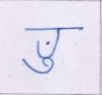u_matra: (22, 57, 57, 75)
